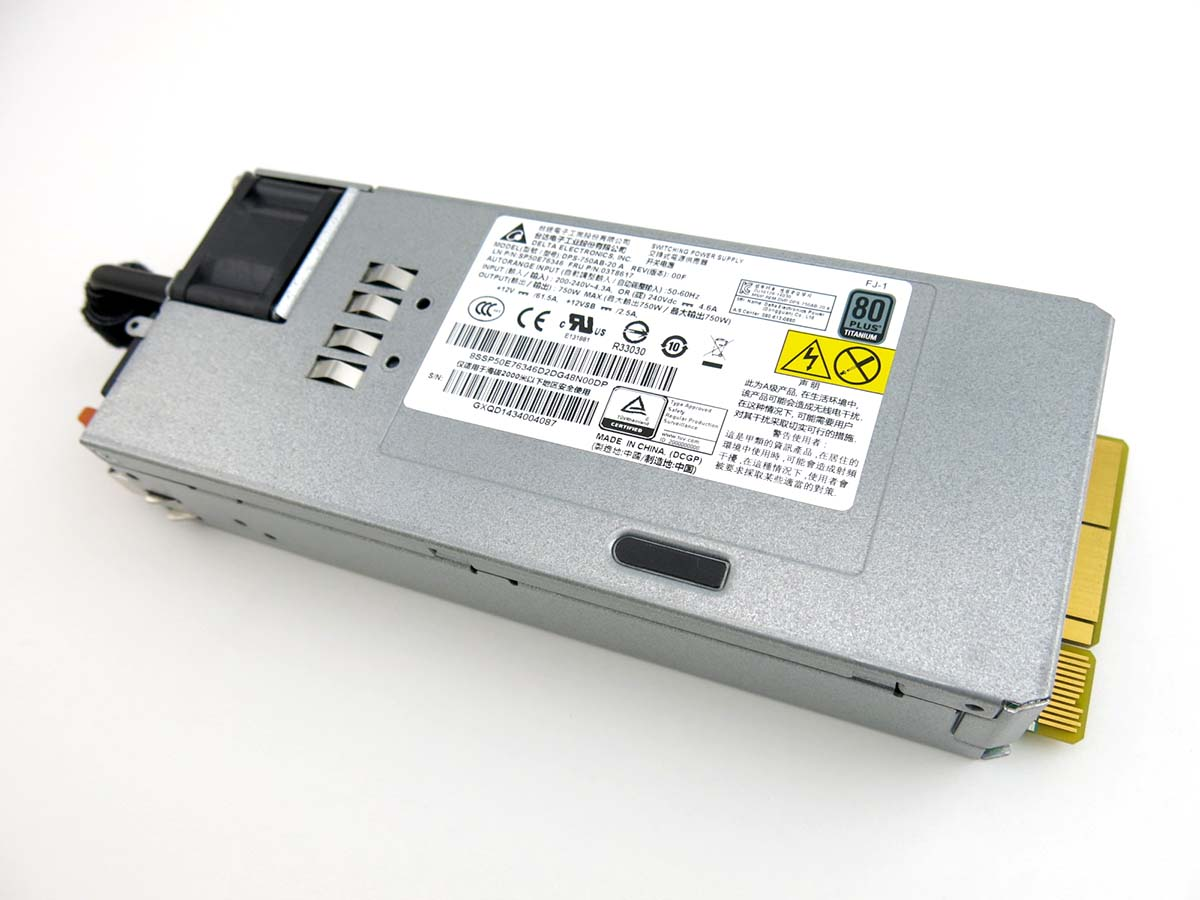Power Supply: (54, 127, 1179, 779)
